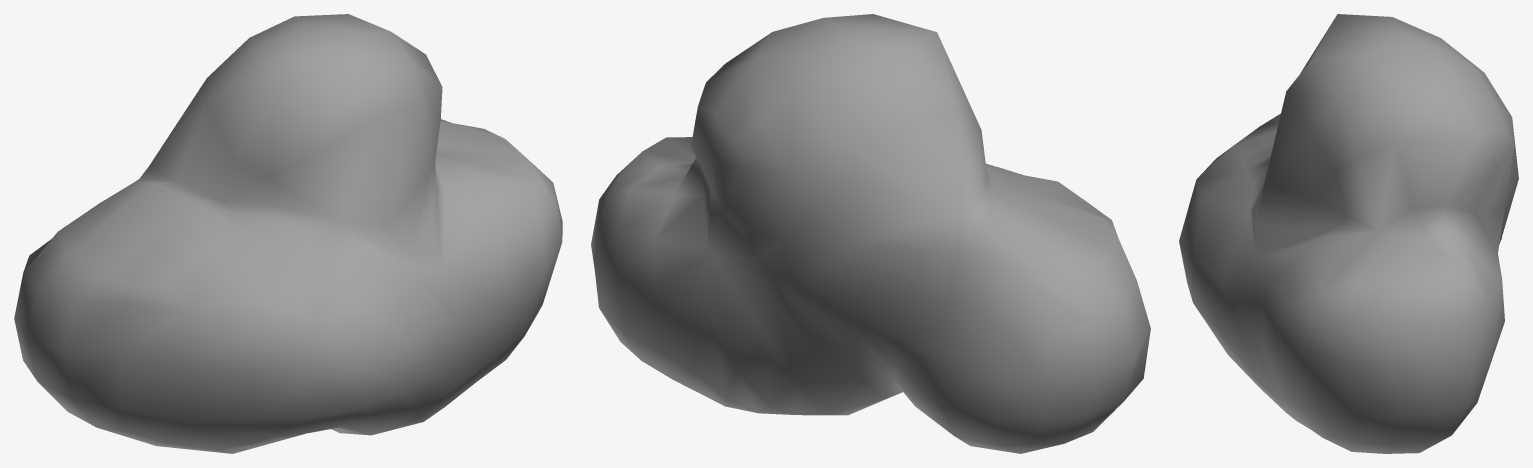
Rendered from smokeMesh.fbx.
The picture shows the model from 3 angles, left to right: view 1: azimuth 30°, elevation 25°; view 2: azimuth 150°, elevation 25°; view 3: azimuth 270°, elevation 25°; orthographic projection. The views are drawn at different scales.
Parts seen in each view (by area): view 1: smokeMesh; view 2: smokeMesh; view 3: smokeMesh.
Part boxes in pixels (<box>): smokeMesh: <box>14,14,562,453</box>; smokeMesh: <box>591,14,1150,453</box>; smokeMesh: <box>1179,14,1518,453</box>.
Bounding box in the file's own units: 59.57 × 42.41 × 35.69.
